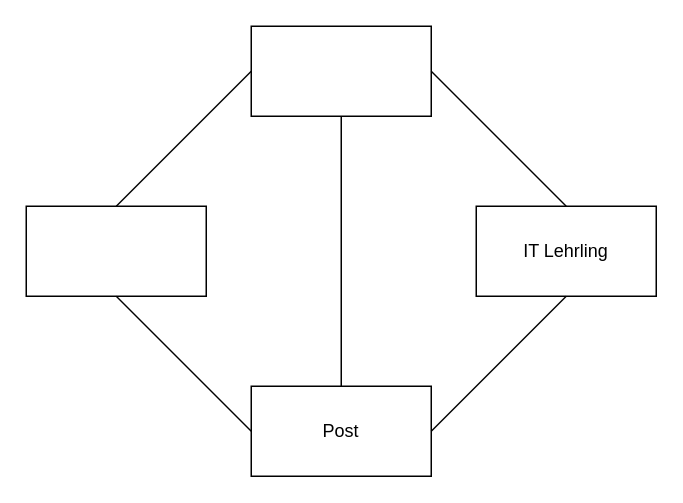
Some shapes in this 683 by 503 pixel diagram are drawn without their labels. The box of each missing label's shape, as (x1, y1, x2, y2) in pixels:
IT Lehrperson: (25, 205, 206, 296)
Like: (250, 25, 431, 116)
